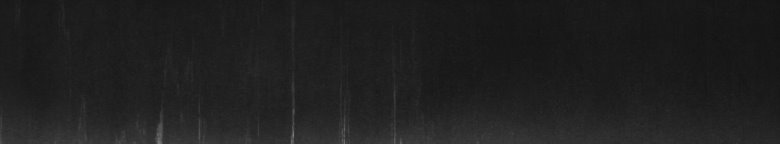ka: (289, 21, 399, 136)
